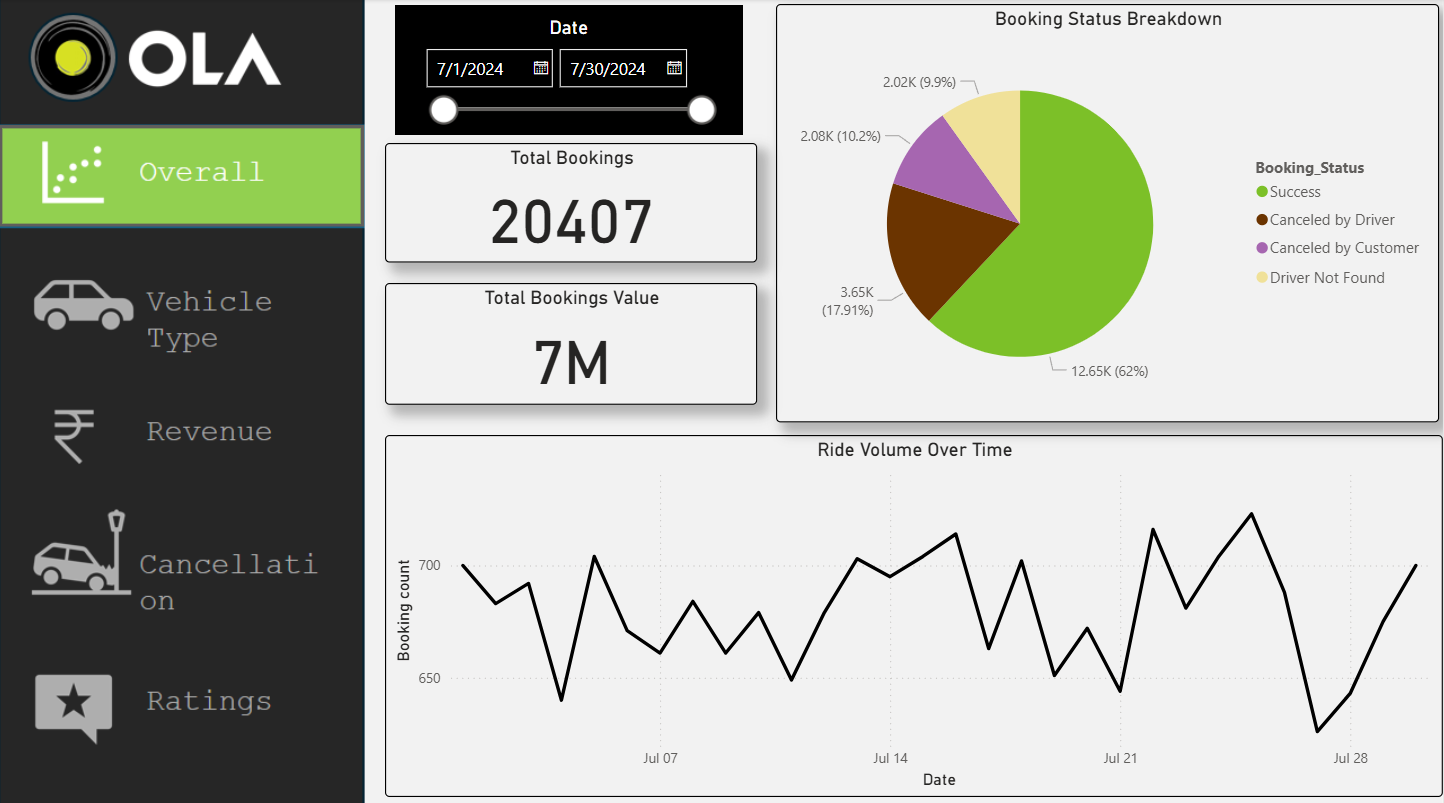

What the dashboard file says about the page in this screenshot:
{"tool":"powerbi","page":{"name":"Overall","canvas":[1280,720],"ordinal":0},"visuals":[{"type":"lineChart","title":"Ride Volume Over Time","fields":{"Y":["CountNonNull(July.Booking_ID)"],"Category":["July.Date"]},"box":[342.3,386.6,938.1,321],"z":0},{"type":"pieChart","title":"Booking Status Breakdown","fields":{"Category":["July.Booking_Status"],"Y":["CountNonNull(July.Booking_Status)"]},"box":[689,4.4,587.9,370.6],"z":1000},{"type":"slicer","title":"Date","fields":{"Values":["July.Date"]},"box":[351,5,308.3,114.8],"z":2000},{"type":"card","title":"Total Bookings","fields":{"Values":["CountNonNull(July.Booking_ID)"]},"box":[342.4,127.4,329.7,106],"z":3000},{"type":"card","title":"Total Bookings Value","fields":{"Values":["Sum(July.Booking_Value)"]},"box":[342.4,251.9,329.7,108],"z":4000},{"type":"actionButton","box":[0,234.1,323.6,90.4],"z":5000},{"type":"actionButton","box":[0,341.4,323.6,90.4],"z":6000},{"type":"actionButton","box":[0,446,323.6,101.1],"z":7000},{"type":"actionButton","box":[0,580.8,323.6,90.4],"z":8000},{"type":"actionButton","box":[0,111.7,323.6,90.4],"z":9000},{"type":"actionButton","box":[0,109.1,323.6,94.9],"z":10000}]}

Visuals, with their boxes in screenshot pixels (x1, y1, x2, y2), scaled from the page's 1280x720 canvas onto the 1444x803 screenshot:
"Ride Volume Over Time" lineChart: (left=386, top=431, right=1443, bottom=789)
"Booking Status Breakdown" pieChart: (left=777, top=5, right=1441, bottom=418)
"Date" slicer: (left=396, top=6, right=744, bottom=134)
"Total Bookings" card: (left=386, top=142, right=758, bottom=260)
"Total Bookings Value" card: (left=386, top=281, right=758, bottom=401)
actionButton: (left=0, top=261, right=365, bottom=362)
actionButton: (left=0, top=381, right=365, bottom=482)
actionButton: (left=0, top=497, right=365, bottom=610)
actionButton: (left=0, top=648, right=365, bottom=749)
actionButton: (left=0, top=125, right=365, bottom=225)
actionButton: (left=0, top=122, right=365, bottom=228)
